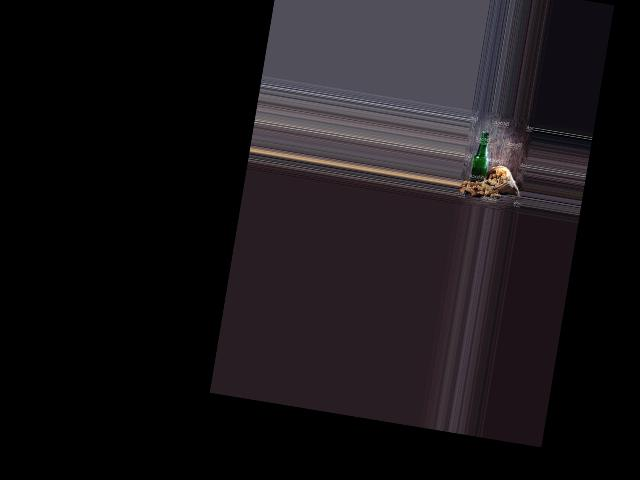beer: (468, 129, 493, 187)
